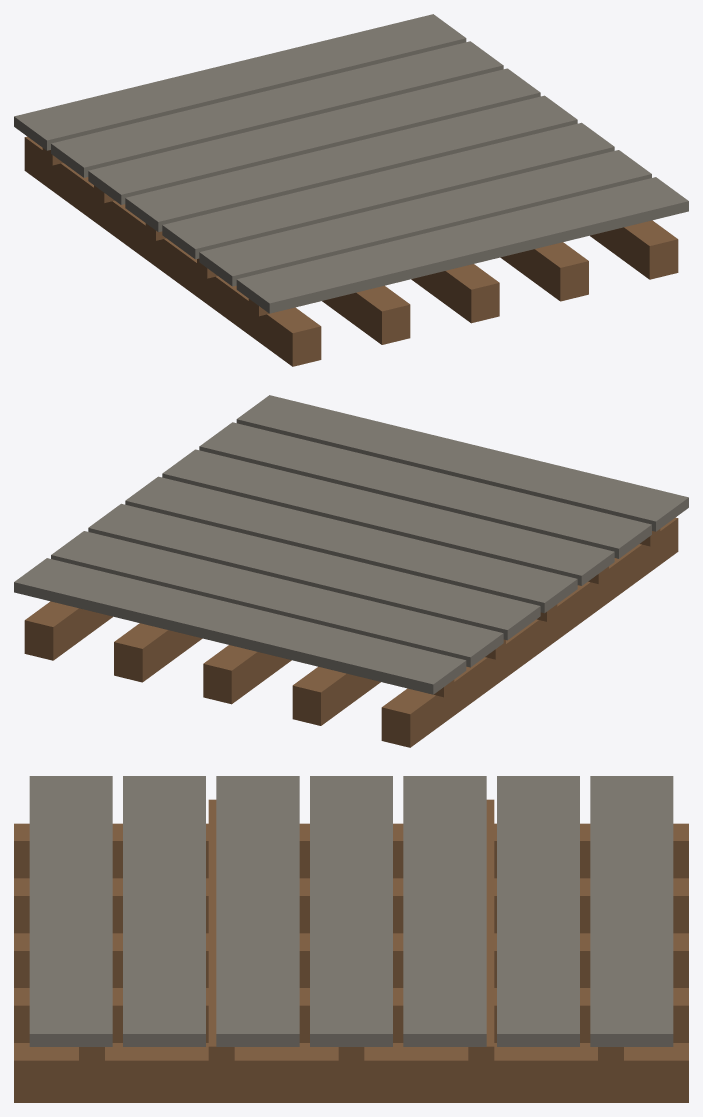
The model's file is roofRepair085-bfb21b7a4596.glb.
3 views of the same model, one above another, from view 1: azimuth 30°, elevation 25°; view 2: azimuth 150°, elevation 25°; view 3: azimuth 270°, elevation 25° (orthographic). The views are drawn at different scales.
Visible parts, largest first — view 1: roof_tile_6, roof_tile_2, roof_tile_3, roof_tile_4, roof_tile_5, roof_tile_1, roof_tile_0, roof_beam_0, roof_beam_4, roof_beam_1, roof_beam_2, roof_beam_3; view 2: roof_tile_0, roof_tile_2, roof_tile_3, roof_tile_4, roof_tile_1, roof_tile_5, roof_tile_6, roof_beam_0, roof_beam_4, roof_beam_1, roof_beam_2, roof_beam_3; view 3: roof_beam_4, roof_tile_0, roof_tile_2, roof_tile_4, roof_tile_6, roof_tile_1, roof_tile_3, roof_tile_5, roof_beam_1, roof_beam_0, roof_beam_2, roof_beam_3 (+3 smaller).
Boxes of the visible parts, x1,y1,x2,y2 form: roof_tile_6: [236, 177, 688, 313]; roof_tile_2: [88, 68, 540, 204]; roof_tile_3: [125, 95, 577, 232]; roof_tile_4: [162, 122, 614, 259]; roof_tile_5: [199, 150, 651, 286]; roof_tile_1: [51, 41, 503, 177]; roof_tile_0: [14, 14, 466, 150]; roof_beam_0: [24, 136, 321, 366]; roof_beam_4: [590, 220, 678, 279]; roof_beam_1: [322, 285, 410, 344]; roof_beam_2: [411, 264, 499, 323]; roof_beam_3: [500, 242, 588, 301]; roof_tile_0: [14, 558, 466, 694]; roof_tile_2: [88, 503, 540, 640]; roof_tile_3: [125, 476, 577, 613]; roof_tile_4: [162, 449, 614, 585]; roof_tile_1: [51, 531, 503, 667]; roof_tile_5: [199, 422, 651, 558]; roof_tile_6: [236, 395, 688, 531]; roof_beam_0: [381, 517, 678, 747]; roof_beam_4: [24, 601, 112, 660]; roof_beam_1: [292, 666, 380, 725]; roof_beam_2: [203, 645, 291, 704]; roof_beam_3: [114, 623, 202, 682]; roof_beam_4: [14, 1043, 688, 1102]; roof_tile_0: [590, 776, 673, 1046]; roof_tile_2: [403, 776, 486, 1046]; roof_tile_4: [216, 776, 299, 1046]; roof_tile_6: [29, 776, 112, 1046]; roof_tile_1: [497, 776, 579, 1046]; roof_tile_3: [310, 776, 392, 1046]; roof_tile_5: [123, 776, 205, 1046]; roof_beam_1: [14, 878, 688, 933]; roof_beam_0: [14, 823, 688, 878]; roof_beam_2: [14, 933, 688, 987]; roof_beam_3: [14, 988, 688, 1042].
Size of the model in its own units: 2.35 by 0.3375 by 2.6.
